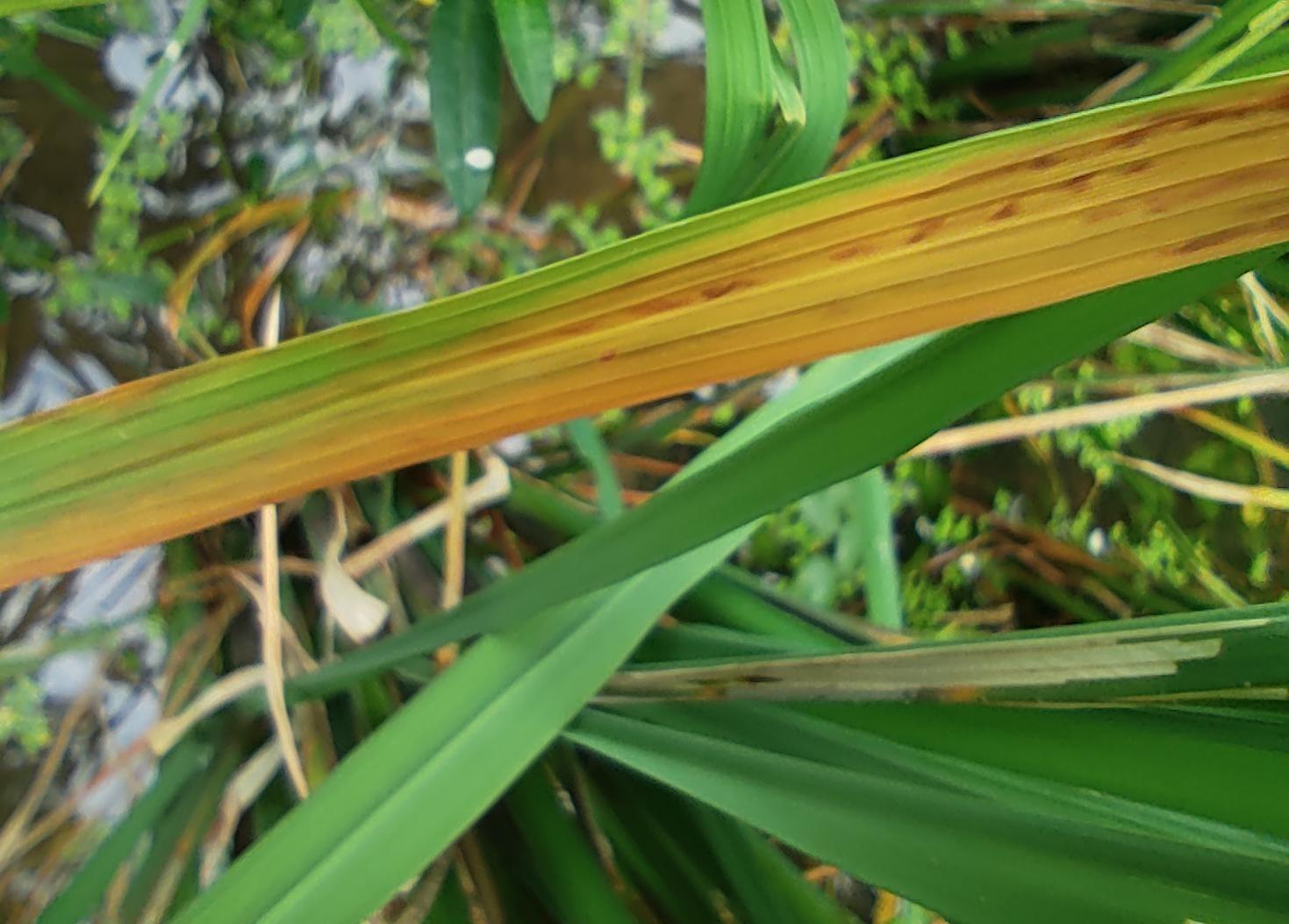LEAF: (0, 71, 1288, 589)
NBS: (16, 345, 289, 428), (1182, 93, 1286, 129), (1110, 109, 1193, 151), (1170, 225, 1258, 255), (903, 215, 950, 244), (630, 297, 693, 314), (988, 195, 1029, 221), (830, 241, 876, 262), (702, 281, 747, 299), (1123, 160, 1149, 174), (1071, 170, 1095, 183)
